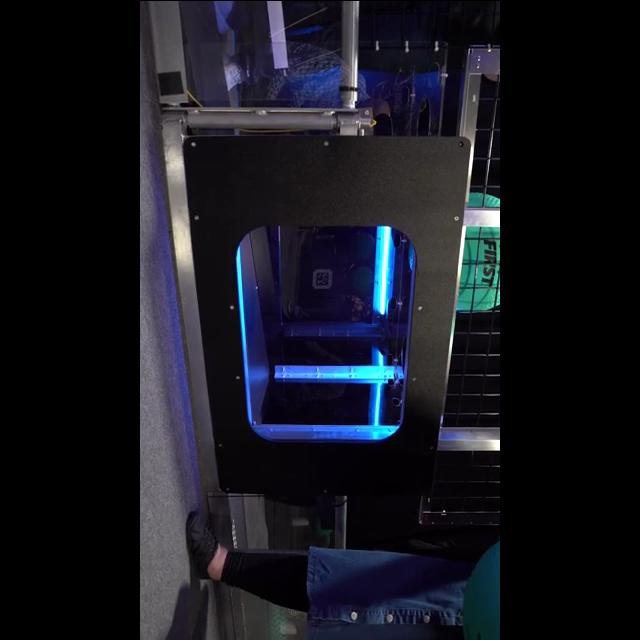ALGAE: (456, 188, 500, 312), (462, 537, 500, 639)
